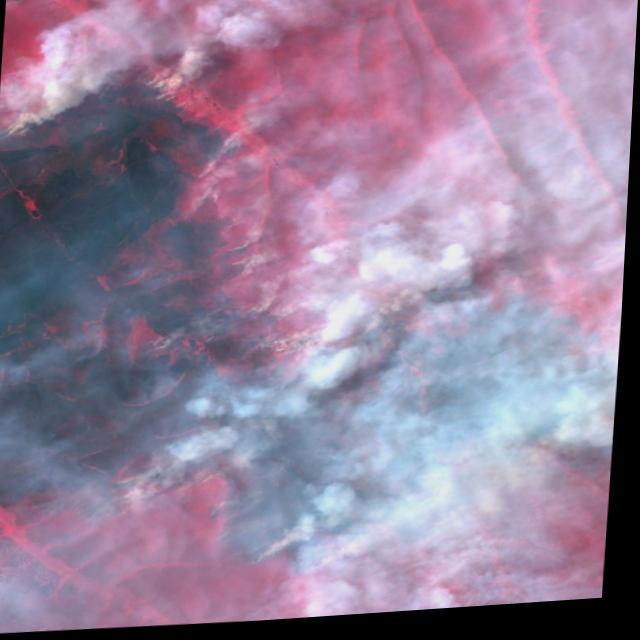fire: (0, 39, 637, 606)
